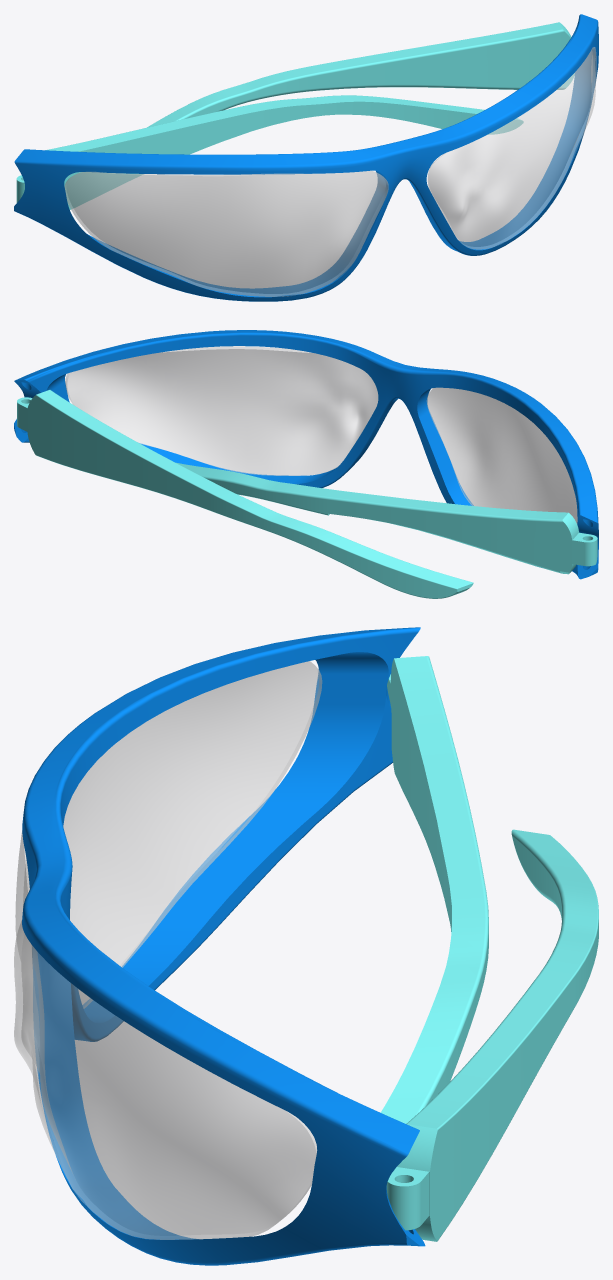
Rendered from Goggles.fbx.
3 renders of one model, top to bottom at view 1: azimuth 30°, elevation 25°; view 2: azimuth 150°, elevation 25°; view 3: azimuth 270°, elevation 25°, orthographic. The views are drawn at different scales.
Parts seen in each view (by area): view 1: Assembly of Goggles; view 2: Assembly of Goggles; view 3: Assembly of Goggles.
Boxes of the visible parts, x1,y1,x2,y2 form: Assembly of Goggles: (14,14,598,301); Assembly of Goggles: (14,330,598,598); Assembly of Goggles: (14,627,598,1265).
Size of the model in its own units: 154 by 37.77 by 72.25.
